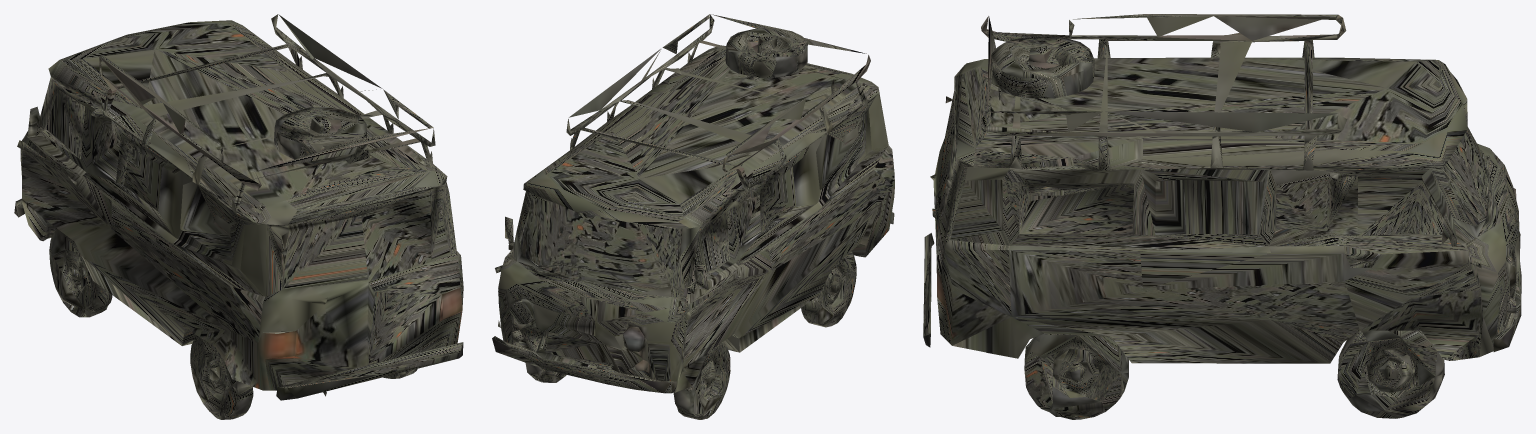
File: UAZ_Bukhanka_22k.glb
3 renders of one model, left to right at view 1: azimuth 30°, elevation 25°; view 2: azimuth 150°, elevation 25°; view 3: azimuth 270°, elevation 25°, orthographic. The views are drawn at different scales.
Parts seen in each view (by area): view 1: output_unwrapped; view 2: output_unwrapped; view 3: output_unwrapped.
Boxes of the visible parts, x1,y1,x2,y2 form: output_unwrapped: (14,14,463,419); output_unwrapped: (492,14,894,419); output_unwrapped: (923,14,1521,419).
Size of the model in its own units: 2.21 by 2.66 by 4.49.
1 material, 1 textured.
